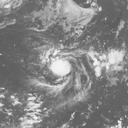cyclone: (42, 45, 83, 86)
